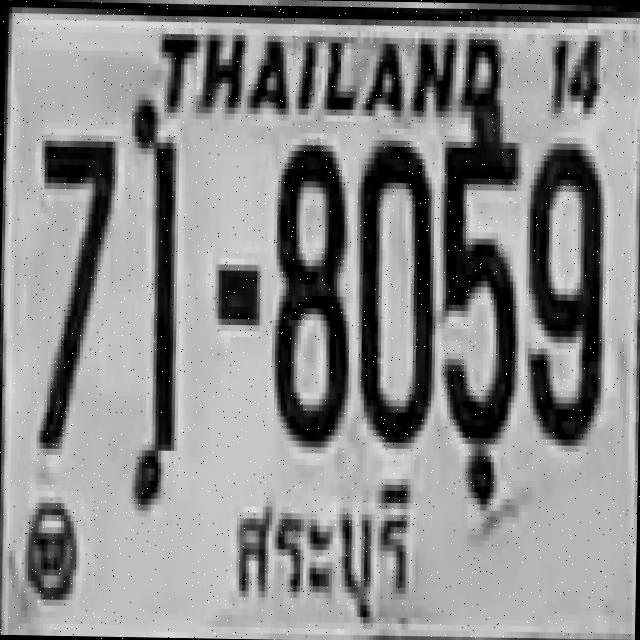0: (353, 134, 435, 443)
1: (142, 127, 178, 496), (142, 124, 176, 480)
5: (438, 123, 517, 450)
7: (34, 134, 114, 449)
8: (270, 138, 349, 442)
9: (522, 136, 602, 440)
SaraBuri: (223, 474, 420, 632)
